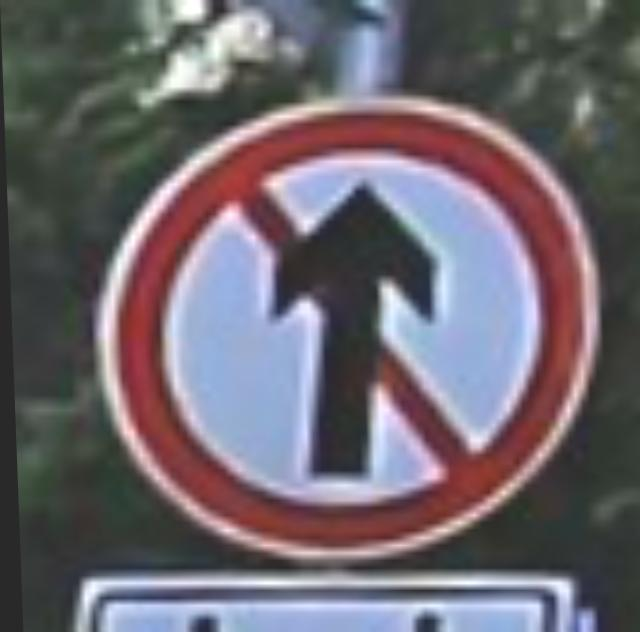not_go_straight: (81, 95, 598, 556)
